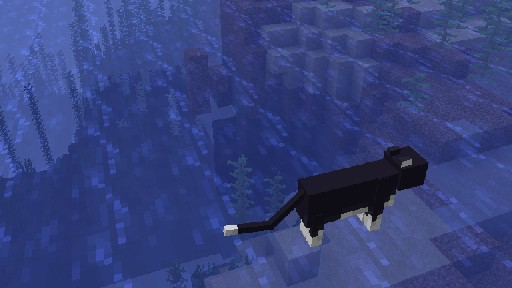cat: (222, 144, 429, 247)
